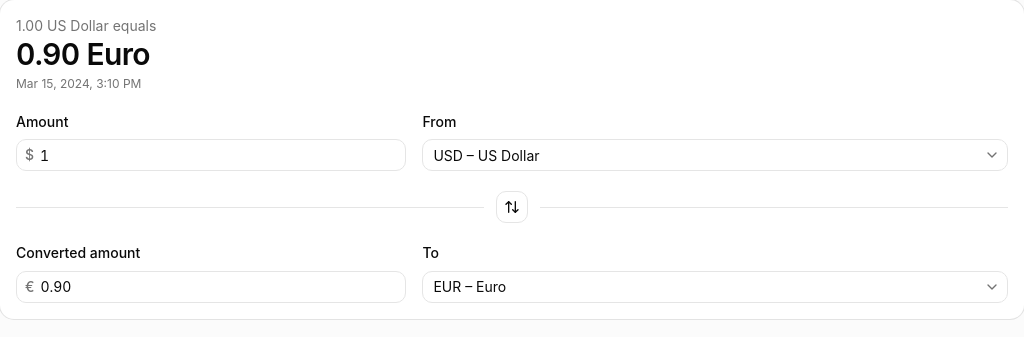
CurrencyConverter › swaps the currencies
Expected: the field labelled "Converted amount" holds "0.90", left=34, top=270, right=405, bottom=302
Click the button named "Swap currencies" at (512, 207), box left=496, top=191, right=528, bottom=223
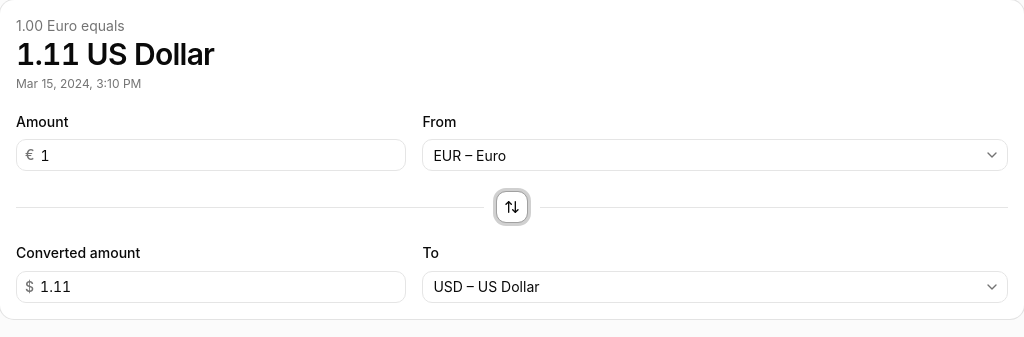
Now the dropdown labelled "From" holds "EUR – Euro", box left=423, top=139, right=980, bottom=171
Now the dropdown labelled "To" holds "USD – US Dollar", box left=423, top=270, right=980, bottom=302
Now the field labelled "Converted amount" holds "1.11", box left=34, top=270, right=405, bottom=302
